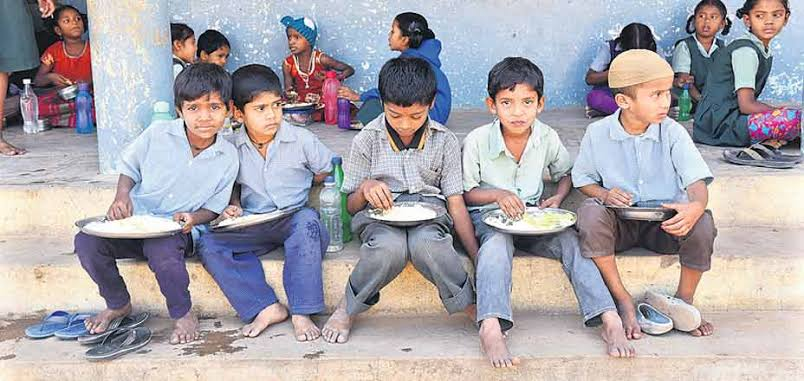student: (600, 54, 681, 127), (169, 53, 233, 140), (471, 62, 548, 133), (377, 64, 437, 148), (225, 65, 287, 137), (607, 19, 667, 66), (740, 1, 786, 49), (191, 21, 237, 69), (383, 12, 430, 55), (682, 1, 730, 41), (279, 14, 317, 55), (51, 4, 89, 42), (165, 18, 201, 57)
